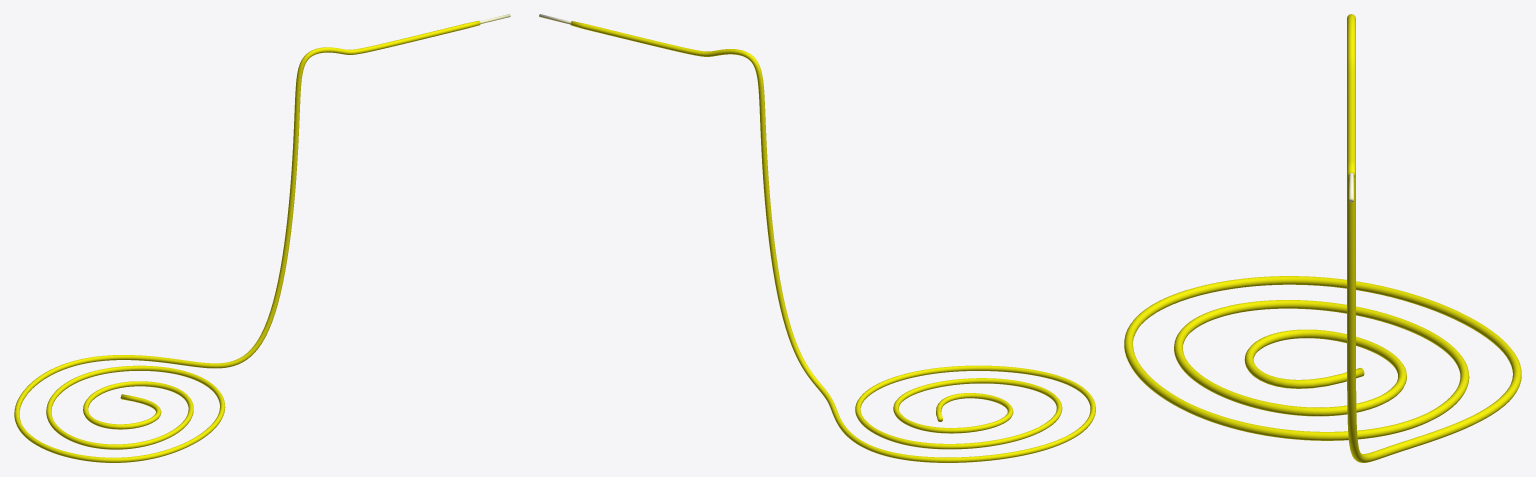
File: kabel tanpa sleeve.fbx
3 renders of one model, left to right at view 1: azimuth 30°, elevation 25°; view 2: azimuth 150°, elevation 25°; view 3: azimuth 270°, elevation 25°, orthographic. The views are drawn at different scales.
Visible parts, largest first — view 1: NurbsPath.005; view 2: NurbsPath.005; view 3: NurbsPath.005.
Boxes of the visible parts, <box> form: NurbsPath.005: <box>14,20,480,462</box>; NurbsPath.005: <box>570,21,1095,462</box>; NurbsPath.005: <box>1124,14,1521,462</box>.
Bounding box in the file's own units: 15.8 × 9.26 × 6.44.
Materials: 2 (2 with a texture image).
